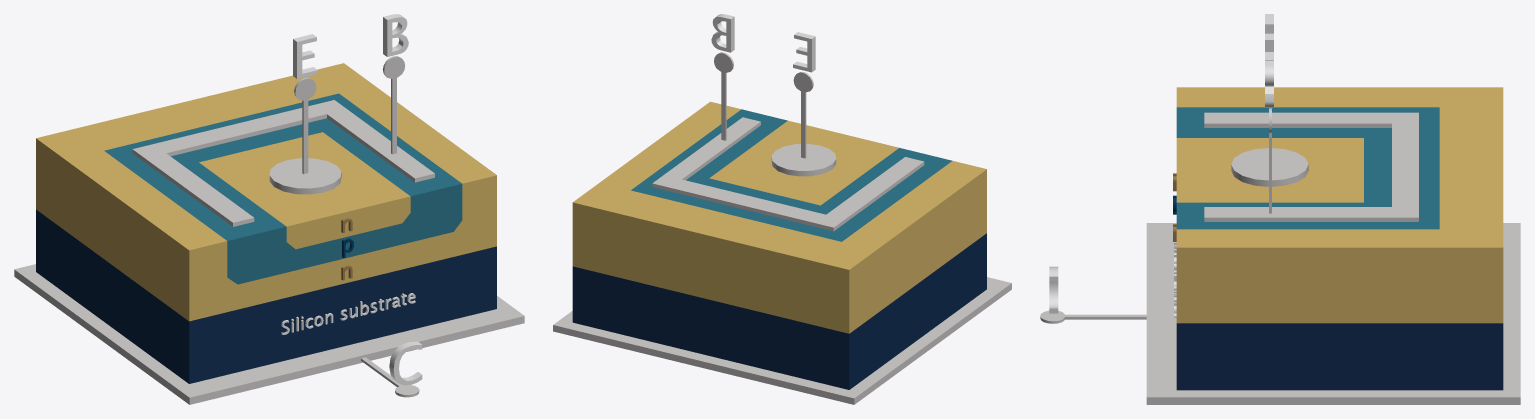
Rendered from BJT cautao.fbx.
3 views of the same model, side by side, from view 1: azimuth 30°, elevation 25°; view 2: azimuth 150°, elevation 25°; view 3: azimuth 270°, elevation 25° (orthographic). The views are drawn at different scales.
Visible parts, largest first — view 1: pCube1, pCube2, pCube3, pCylinder1, typeMesh3, pCylinder3, polySurface2, pCylinder4, polySurface1, polySurface3, pCylinder2; view 2: pCube1, pCube2, pCube3, pCylinder1, pCylinder4, polySurface2, pCylinder3, polySurface1; view 3: pCube1, pCube2, pCube3, pCylinder1, pCylinder2, polySurface3.
Boxes of the visible parts, box(x1,y1,x2,y2) form: pCube1: box(36, 63, 496, 383); pCube2: box(14, 264, 524, 404); pCube3: box(132, 100, 434, 226); pCylinder1: box(269, 158, 341, 194); typeMesh3: box(281, 293, 415, 334); pCylinder3: box(294, 77, 316, 174); polySurface2: box(383, 14, 408, 56); pCylinder4: box(383, 56, 405, 154); polySurface1: box(293, 34, 317, 78); polySurface3: box(389, 341, 422, 385); pCylinder2: box(361, 357, 419, 397); pCube1: box(572, 101, 986, 389); pCube2: box(553, 277, 1011, 404); pCube3: box(652, 117, 924, 231); pCylinder1: box(771, 143, 836, 176); pCylinder4: box(714, 52, 733, 140); polySurface2: box(711, 14, 734, 52); pCylinder3: box(793, 72, 813, 158); polySurface1: box(793, 32, 815, 72); pCube1: box(1176, 87, 1503, 390); pCube2: box(1146, 223, 1520, 404); pCube3: box(1204, 112, 1418, 221); pCylinder1: box(1231, 148, 1308, 186); pCylinder2: box(1040, 310, 1146, 323); polySurface3: box(1049, 266, 1058, 313).
Bounding box in the file's own units: 71.94 × 57.97 × 83.8.
